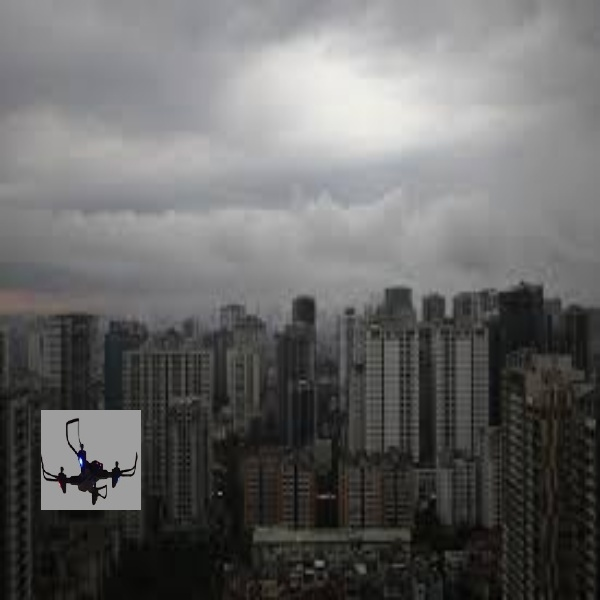drone: (39, 410, 142, 508)
